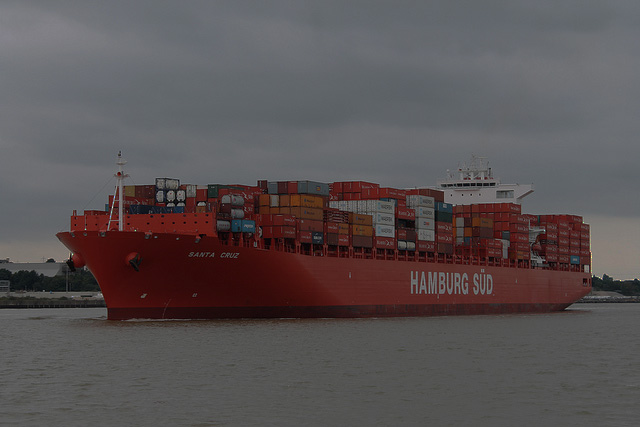container_ship: (52, 150, 595, 320)
